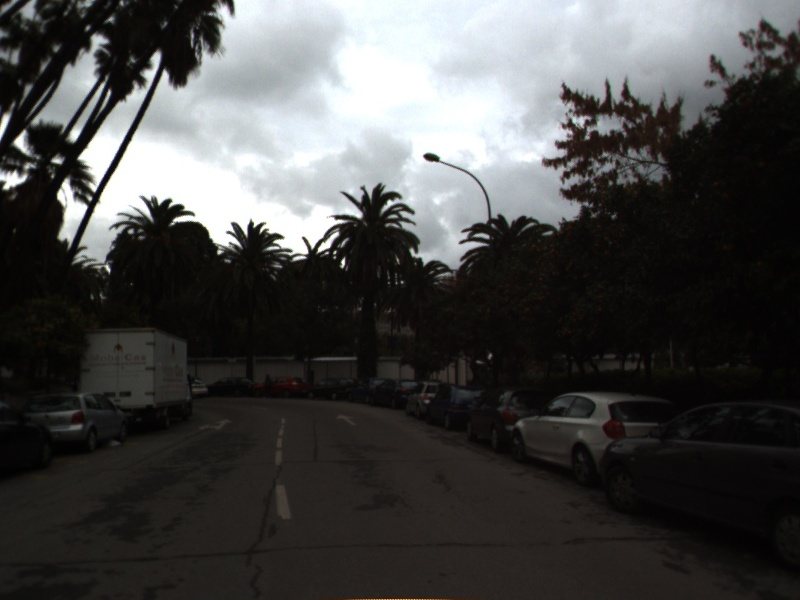STRAIGHT: (334, 411, 360, 427)
STRAIGHT_LEFT: (195, 417, 236, 433)
